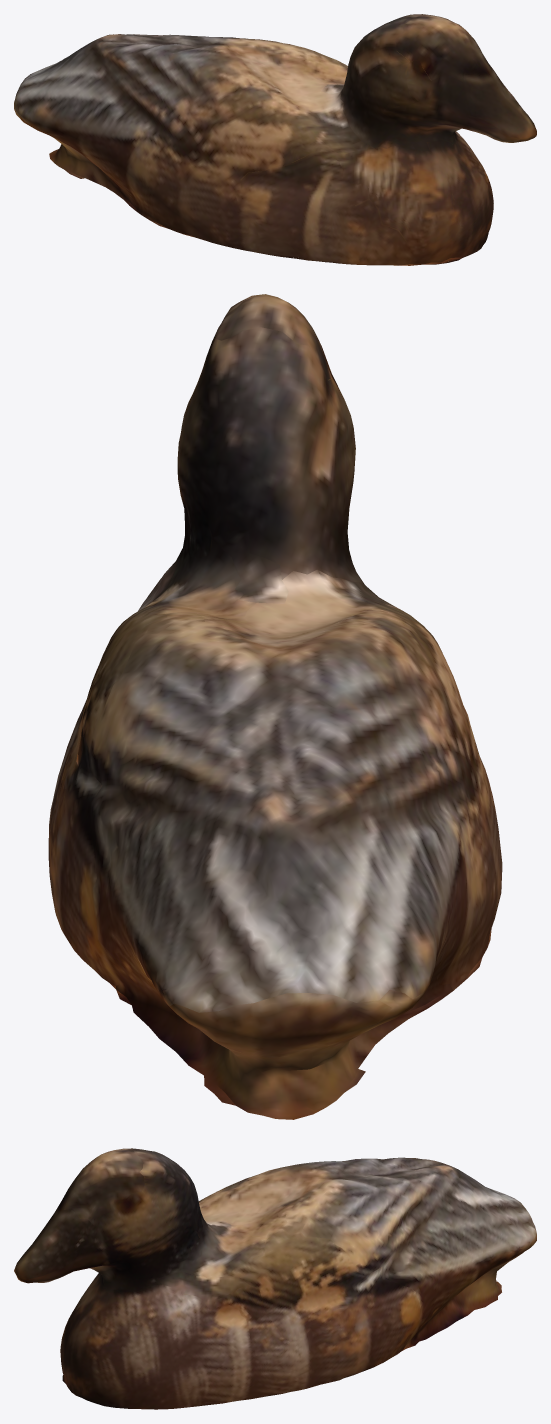
Rendered from wooden_duck.glb.
3 views of the same model, one above another, from view 1: azimuth 30°, elevation 25°; view 2: azimuth 150°, elevation 25°; view 3: azimuth 270°, elevation 25° (orthographic). The views are drawn at different scales.
Visible parts, largest first — view 1: nodes[0]; view 2: nodes[0]; view 3: nodes[0].
Part boxes in pixels (x1,y1,x2,y2): nodes[0]: (14, 14, 536, 265); nodes[0]: (48, 294, 502, 1119); nodes[0]: (14, 1148, 536, 1409).
Bounding box in the file's own units: 0.2418 × 0.1695 × 0.351.
Materials: 1 (1 with a texture image).
